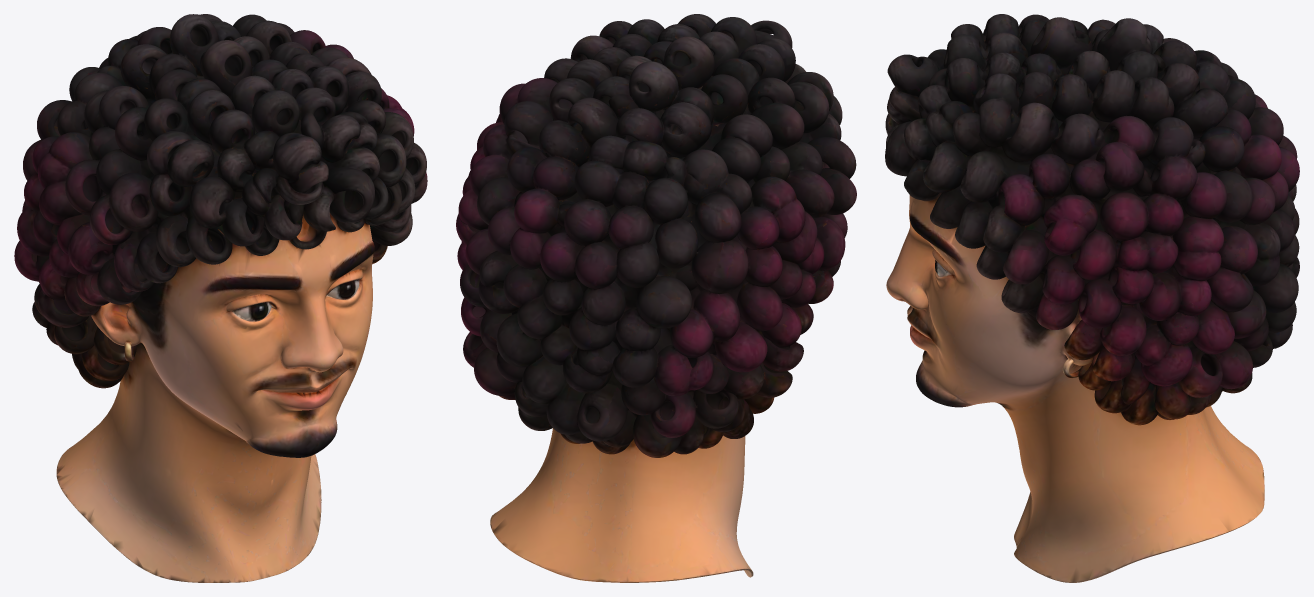
Rendered from gabriel.glb.
3 views of the same model, side by side, from view 1: azimuth 30°, elevation 25°; view 2: azimuth 150°, elevation 25°; view 3: azimuth 270°, elevation 25° (orthographic).
Visible parts, largest first — view 1: node_0; view 2: node_0; view 3: node_0.
Part boxes in pixels (bbox=[...]): node_0: bbox=[14, 14, 427, 582]; node_0: bbox=[456, 14, 856, 582]; node_0: bbox=[885, 14, 1299, 582].
Bounding box in the file's own units: 0.7624 × 1.1 × 0.7963.
Materials: 1 (1 with a texture image).
